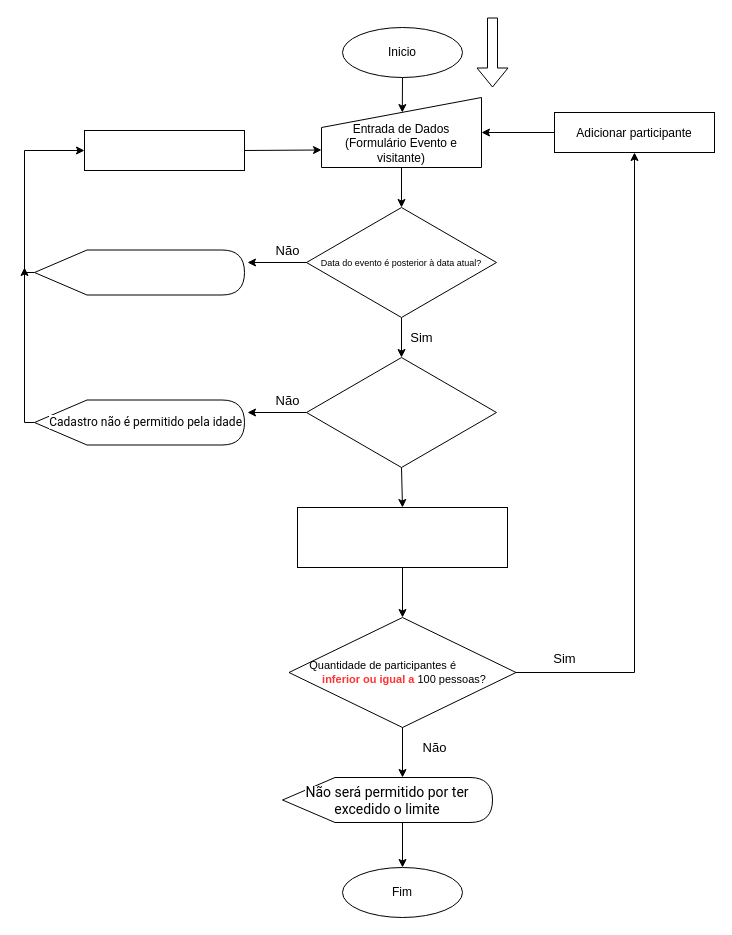
Some shapes in this 732 by 935 pixel diagram are drawn without their labels. Each missing label, with the box of its shape:
Cadastro não será permitido por data inválida.: (34, 249, 244, 295)
Listar participantes e palestrantes por evento.: (296, 506, 508, 568)
Participante é maior de 18 anos?: (306, 356, 496, 468)
Remover participante: (84, 130, 244, 170)
